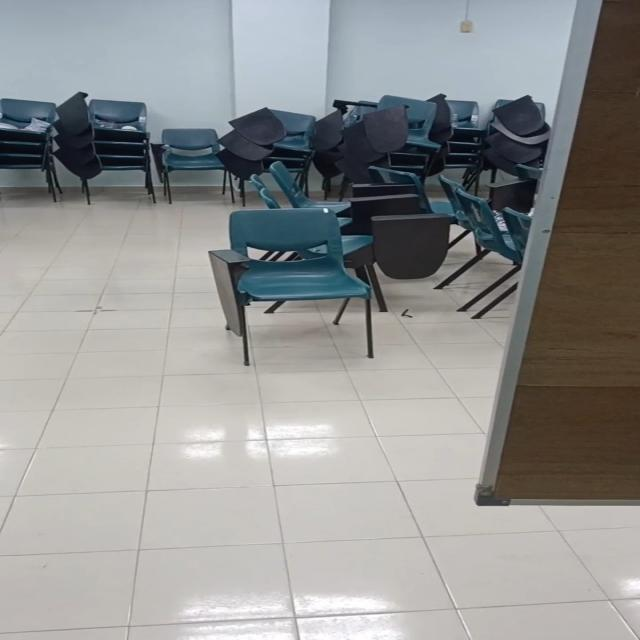sandalye: (209, 208, 373, 366), (162, 128, 227, 203)
